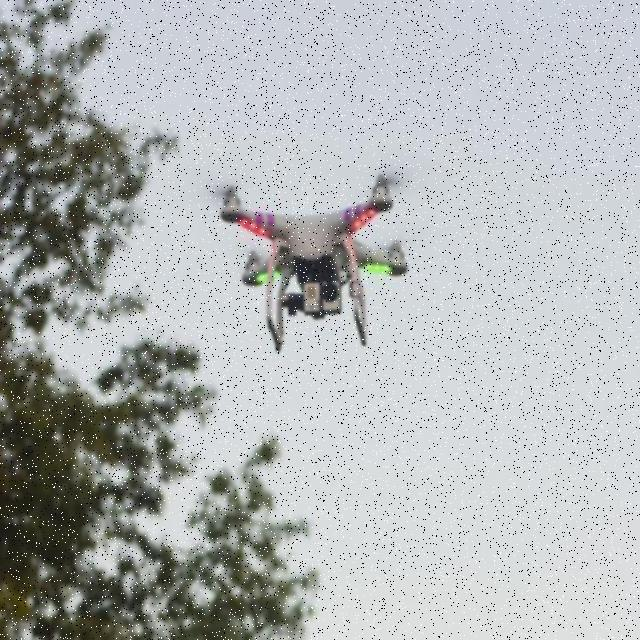UAV: (217, 173, 411, 352)
